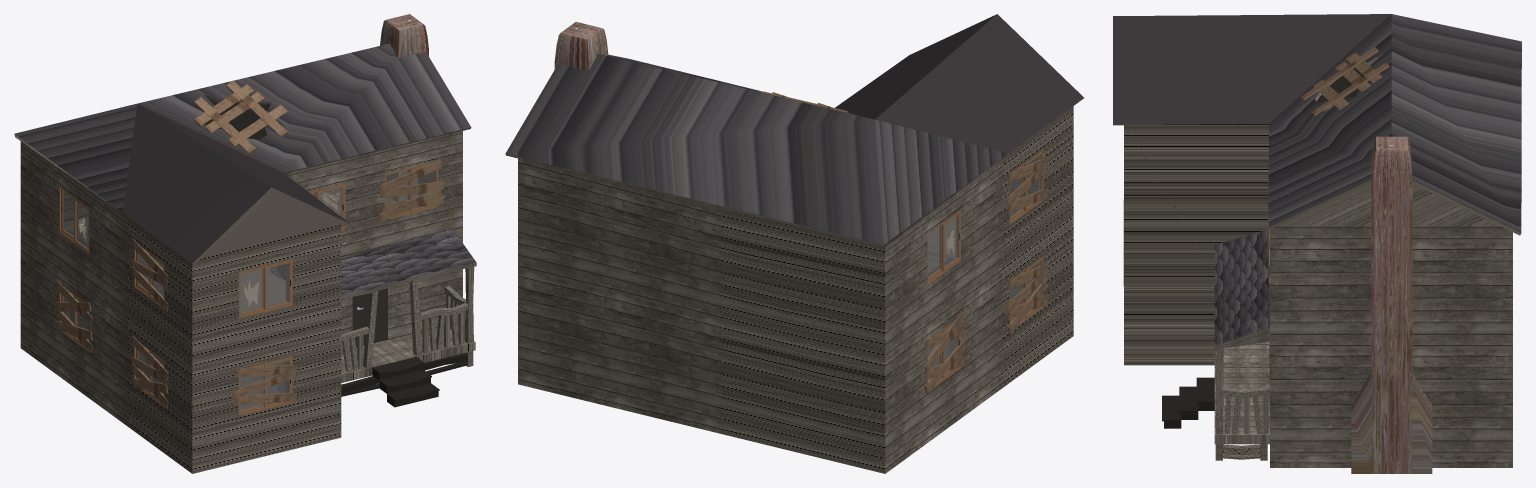
Rendered from House.fbx.
3 views of the same model, side by side, from view 1: azimuth 30°, elevation 25°; view 2: azimuth 150°, elevation 25°; view 3: azimuth 270°, elevation 25° (orthographic). The views are drawn at different scales.
Visible parts, largest first — view 1: House; view 2: House; view 3: House.
Part boxes in pixels (x1,y1,x2,y2): House: [14, 14, 476, 473]; House: [505, 14, 1083, 473]; House: [1113, 14, 1521, 473].
Bounding box in the file's own units: 1887 × 1465 × 1681.
